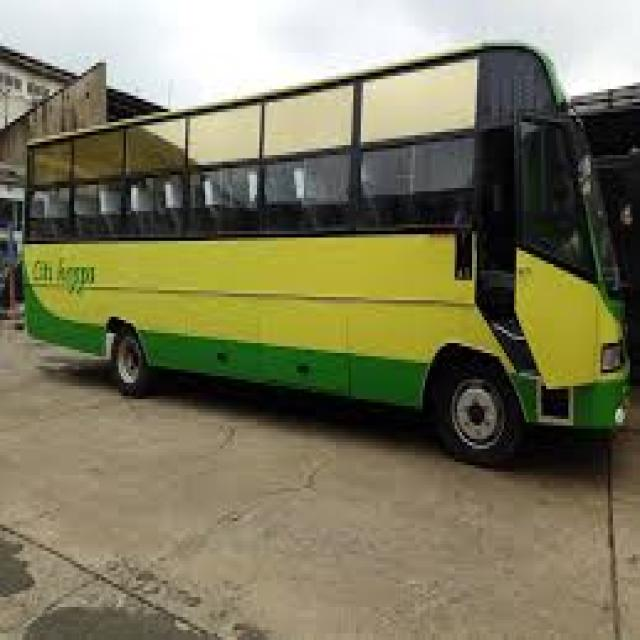bus: (12, 22, 636, 490)
